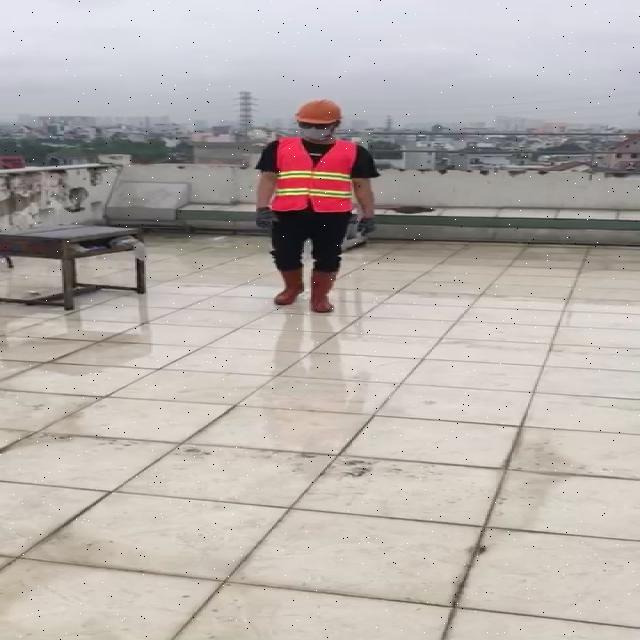Hard_hat: (290, 96, 347, 129)
Person: (250, 96, 388, 339)
Vest: (270, 135, 357, 215)
